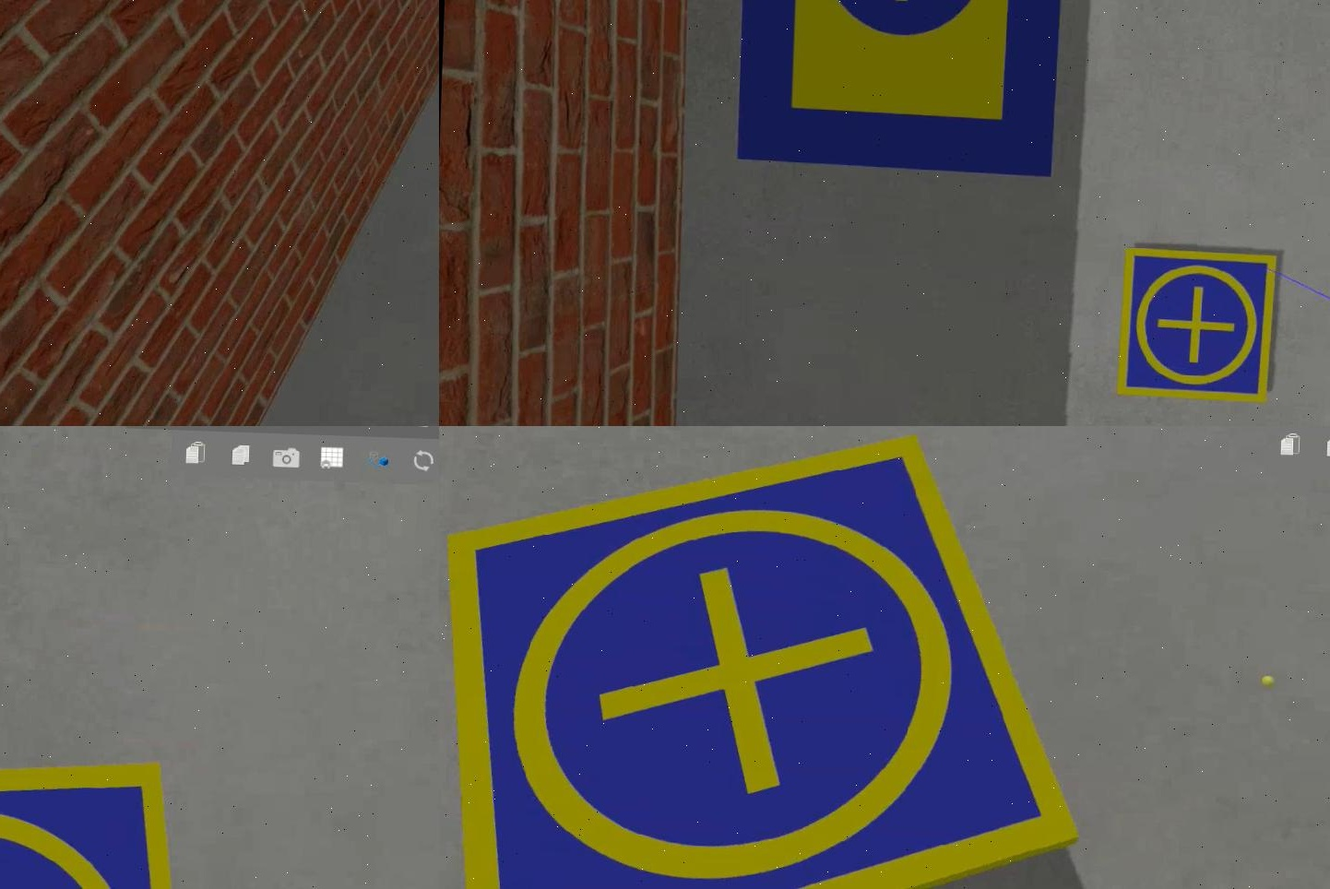large_base: (734, 1, 1068, 178)
small_base: (437, 426, 1093, 889), (1111, 249, 1284, 406)
